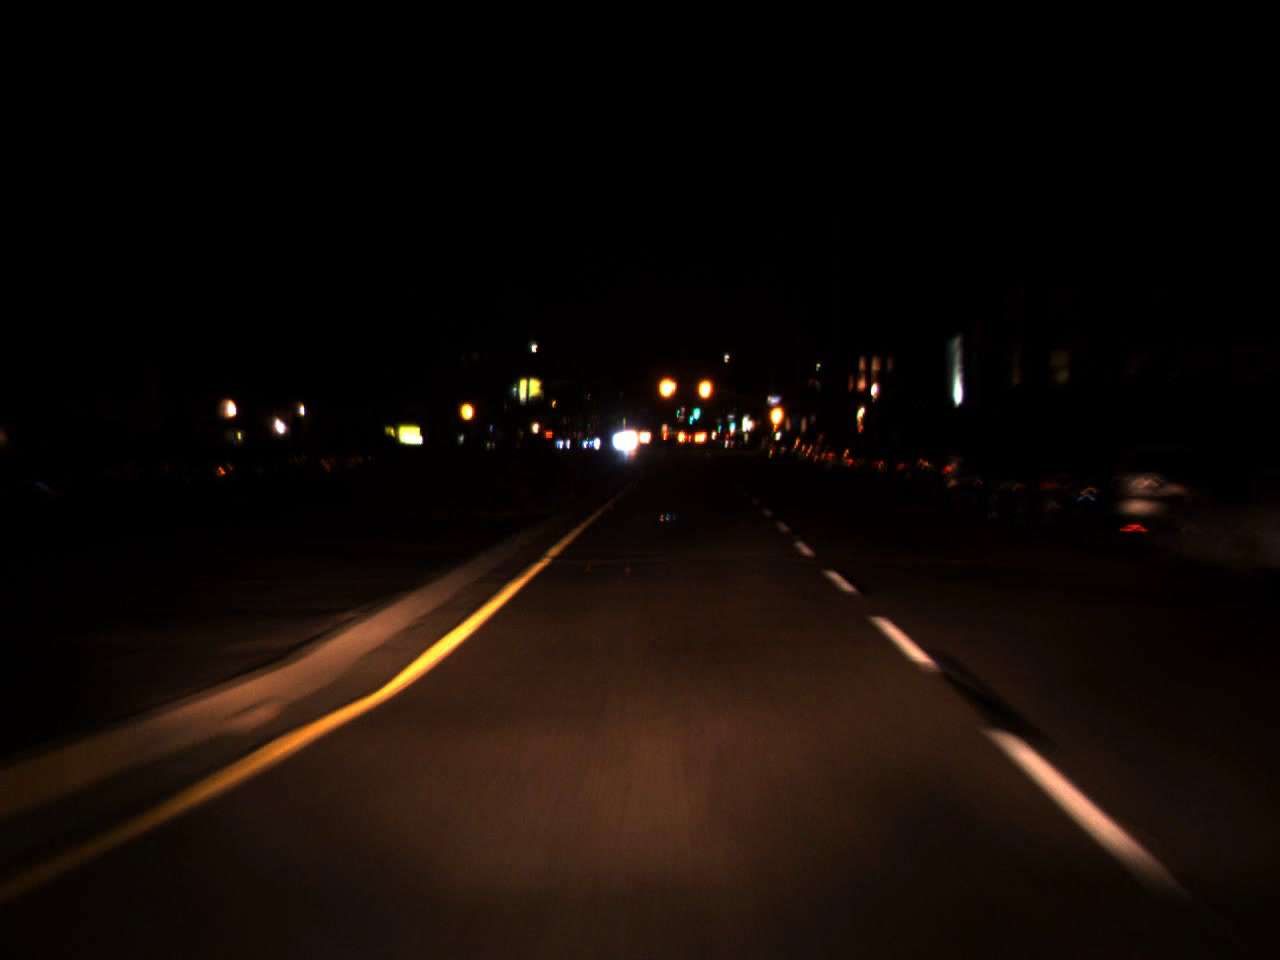go: (691, 394, 701, 424), (688, 404, 695, 428), (729, 416, 736, 428), (716, 419, 723, 431)
warning: (656, 365, 680, 407), (766, 393, 785, 438), (698, 365, 714, 410), (457, 390, 475, 425)
